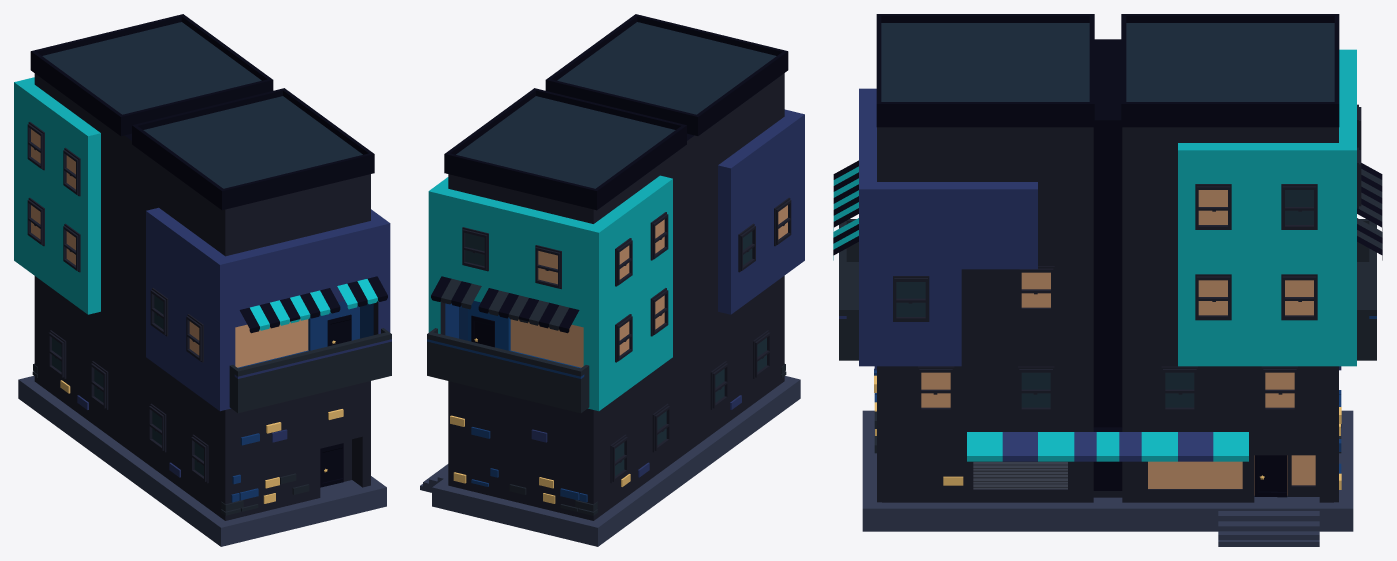
File: Building_MintApartment06.fbx
3 renders of one model, left to right at view 1: azimuth 30°, elevation 25°; view 2: azimuth 150°, elevation 25°; view 3: azimuth 270°, elevation 25°, orthographic. The views are drawn at different scales.
Parts seen in each view (by area): view 1: Cube.797, Cube.799, Cube.800; view 2: Cube.797, Cube.801; view 3: Cube.797, Cube.798.
Boxes of the visible parts, bbox=[...] form: Cube.797: bbox=[14, 14, 391, 546]; Cube.799: bbox=[320, 443, 343, 487]; Cube.800: bbox=[327, 314, 351, 346]; Cube.797: bbox=[420, 14, 804, 546]; Cube.801: bbox=[471, 315, 494, 347]; Cube.797: bbox=[833, 14, 1382, 546]; Cube.798: bbox=[1254, 455, 1287, 497].
Bounding box in the file's own units: 752 × 1273 × 1495.
